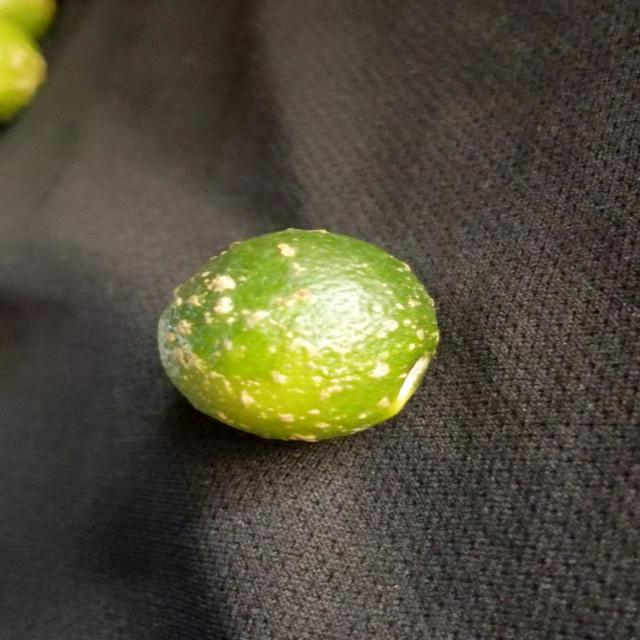scab: (155, 227, 443, 448)
